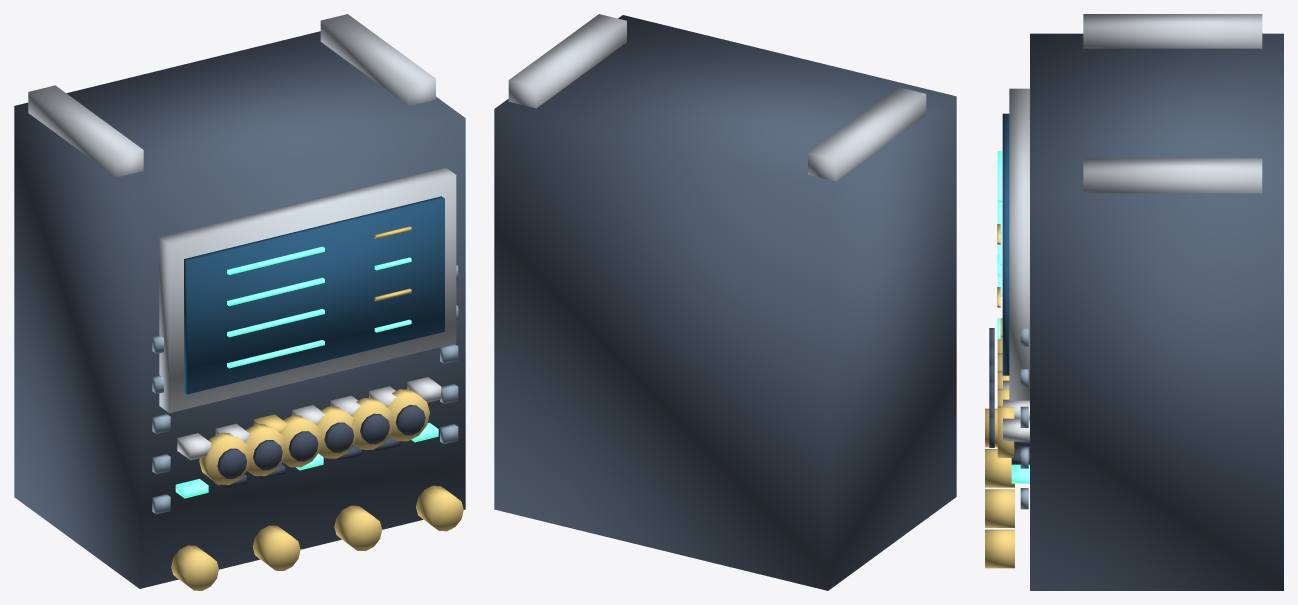
The model's file is 43_L85_RelativePositionVelocityEstimator.glb.
3 renders of one model, left to right at view 1: azimuth 30°, elevation 25°; view 2: azimuth 150°, elevation 25°; view 3: azimuth 270°, elevation 25°, orthographic. The views are drawn at different scales.
Parts seen in each view (by area): view 1: L85_RelativePositionVelocityE_Part_0000, L85_RelativePositionVelocityE_Part_0002, L85_RelativePositionVelocityE_Part_0001, L85_RelativePositionVelocityE_Part_0004, L85_RelativePositionVelocityE_Part_0003, L85_RelativePositionVelocityE_Part_0005, L85_RelativePositionVelocityE_Part_0007, L85_RelativePositionVelocityE_Part_0009, L85_RelativePositionVelocityE_Part_0013, L85_RelativePositionVelocityE_Part_0019, L85_RelativePositionVelocityE_Part_0011, L85_RelativePositionVelocityE_Part_0017 (+8 smaller); view 2: L85_RelativePositionVelocityE_Part_0000, L85_RelativePositionVelocityE_Part_0001; view 3: L85_RelativePositionVelocityE_Part_0000, L85_RelativePositionVelocityE_Part_0001, L85_RelativePositionVelocityE_Part_0004, L85_RelativePositionVelocityE_Part_0002, L85_RelativePositionVelocityE_Part_0003, L85_RelativePositionVelocityE_Part_0005, L85_RelativePositionVelocityE_Part_0007, L85_RelativePositionVelocityE_Part_0019.
Boxes of the visible parts, left/top/right/bottom form: L85_RelativePositionVelocityE_Part_0000: left=14, top=31, right=465, bottom=588; L85_RelativePositionVelocityE_Part_0002: left=184, top=196, right=444, bottom=394; L85_RelativePositionVelocityE_Part_0001: left=28, top=14, right=456, bottom=413; L85_RelativePositionVelocityE_Part_0004: left=171, top=226, right=463, bottom=590; L85_RelativePositionVelocityE_Part_0003: left=175, top=246, right=438, bottom=498; L85_RelativePositionVelocityE_Part_0005: left=177, top=377, right=441, bottom=460; L85_RelativePositionVelocityE_Part_0007: left=152, top=265, right=458, bottom=514; L85_RelativePositionVelocityE_Part_0009: left=199, top=432, right=251, bottom=484; L85_RelativePositionVelocityE_Part_0013: left=280, top=415, right=322, bottom=467; L85_RelativePositionVelocityE_Part_0019: left=387, top=389, right=429, bottom=441; L85_RelativePositionVelocityE_Part_0011: left=245, top=424, right=286, bottom=476; L85_RelativePositionVelocityE_Part_0017: left=352, top=398, right=393, bottom=449; L85_RelativePositionVelocityE_Part_0000: left=494, top=15, right=956, bottom=590; L85_RelativePositionVelocityE_Part_0001: left=508, top=14, right=926, bottom=181; L85_RelativePositionVelocityE_Part_0000: left=1030, top=33, right=1283, bottom=590; L85_RelativePositionVelocityE_Part_0001: left=1009, top=14, right=1262, bottom=400; L85_RelativePositionVelocityE_Part_0004: left=985, top=224, right=1014, bottom=568; L85_RelativePositionVelocityE_Part_0002: left=1002, top=113, right=1009, bottom=375; L85_RelativePositionVelocityE_Part_0003: left=997, top=151, right=1029, bottom=483; L85_RelativePositionVelocityE_Part_0005: left=1003, top=380, right=1029, bottom=441; L85_RelativePositionVelocityE_Part_0007: left=1020, top=328, right=1028, bottom=509; L85_RelativePositionVelocityE_Part_0019: left=997, top=406, right=1014, bottom=457.
Size of the model in its own units: 0.9588 by 1.16 by 0.752.
